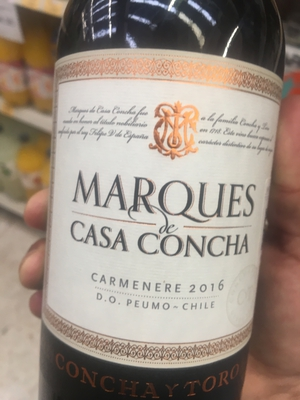marques de casa concha carmenere: (42, 14, 286, 400)
